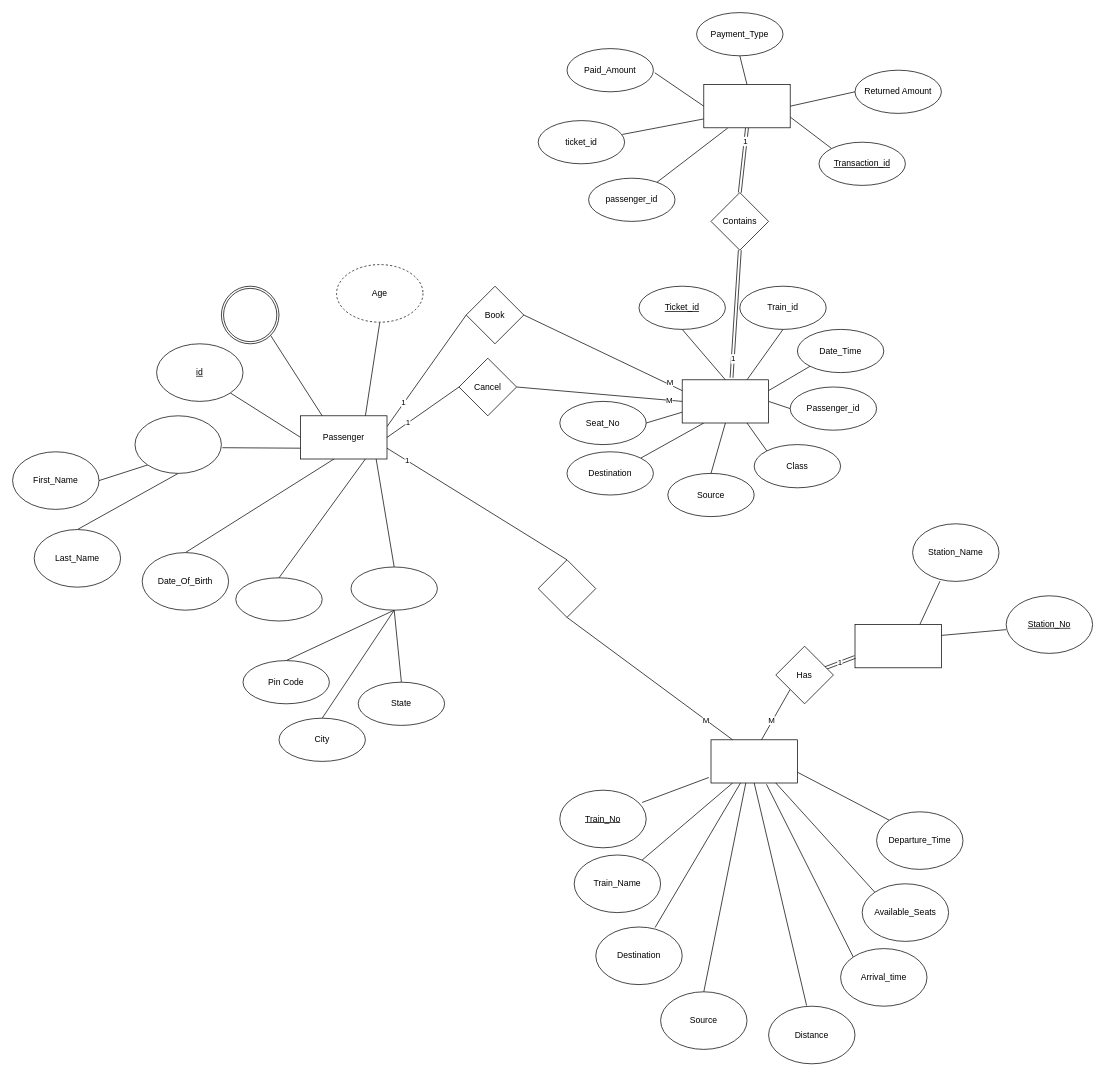
The diagram is 1105 pixels wide and 1076 high, and some of its shapes have lost their labels. Each missing label, with the centre of its shape:
"Address" goes at pixel 393 588.
"Checks For" goes at pixel 566 588.
"Gender" goes at pixel 278 599.
"Mobile_No" goes at pixel 250 314.
"Name" goes at pixel 177 444.
"Station" goes at pixel 897 646.
"Ticket" goes at pixel 725 401.
"Train" goes at pixel 753 761.
"Transaction" goes at pixel 746 106.
